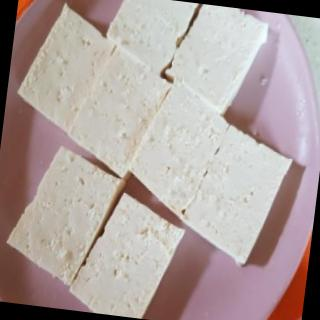Tahu: (7, 1, 292, 319)
